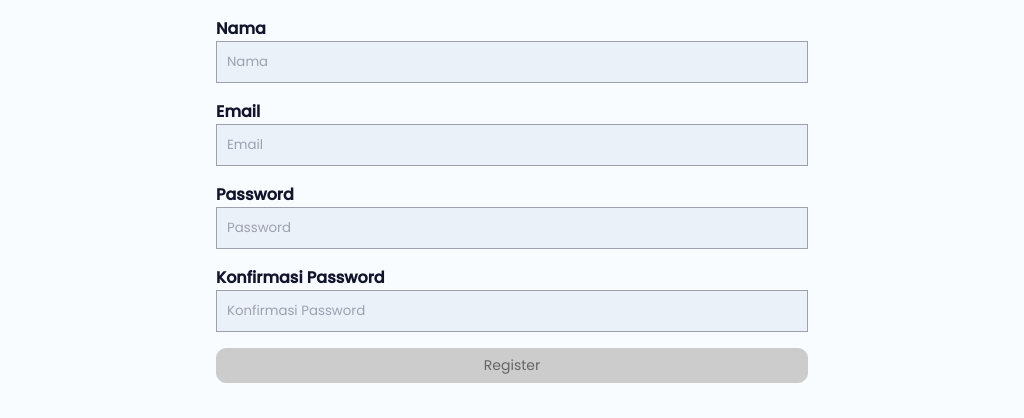
Test case: RegisterInput component › should show invalid email message when not in email format
In the field with placeholder "Email": (512,145) [216, 124, 808, 166], type "correct_email"
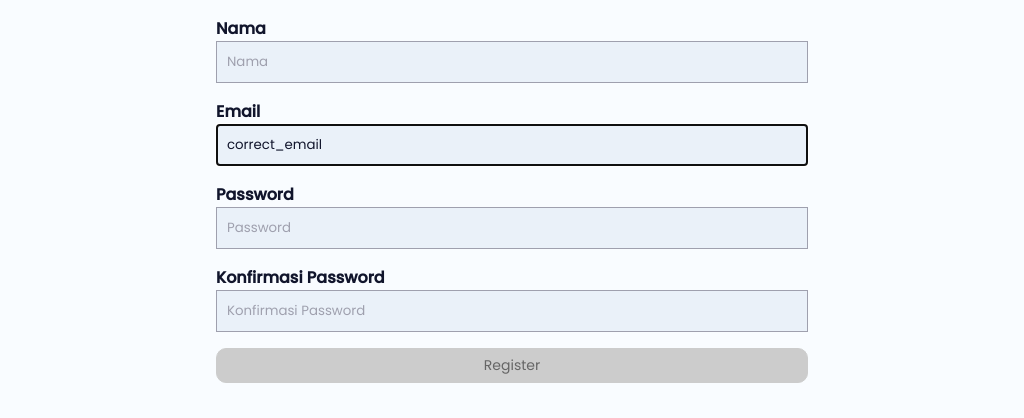
Click the element showing "Nama Email Password Konfirmasi Password Register": (512,200) [0, 0, 1023, 399]
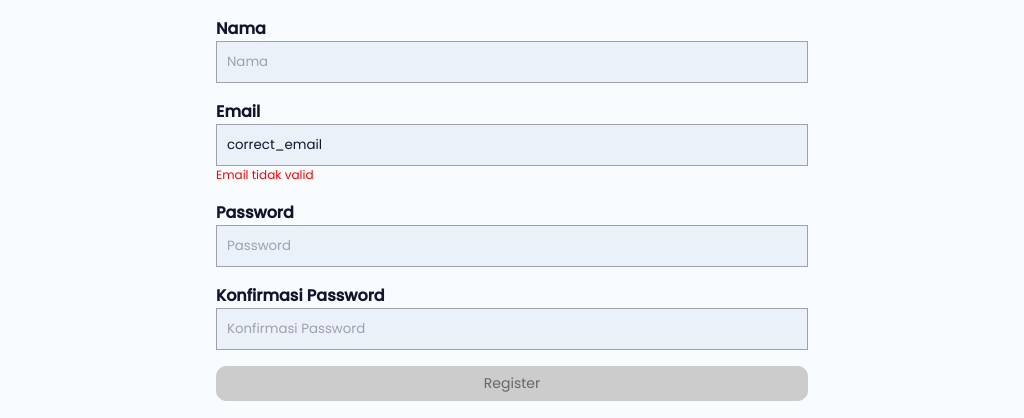
expect the text "Email tidak valid" is shown: met, box [216, 166, 314, 183]
